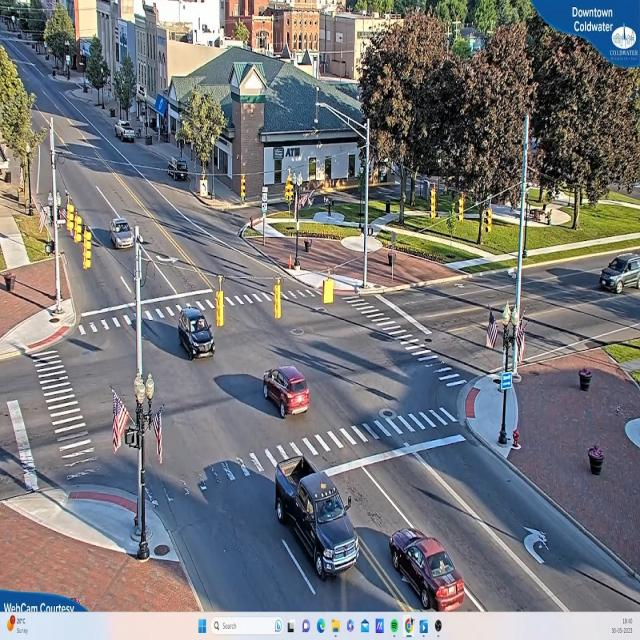car: (273, 463, 359, 582), (389, 530, 468, 616), (262, 368, 312, 420), (176, 305, 215, 359), (599, 256, 639, 296), (109, 218, 134, 249), (116, 123, 136, 143)
